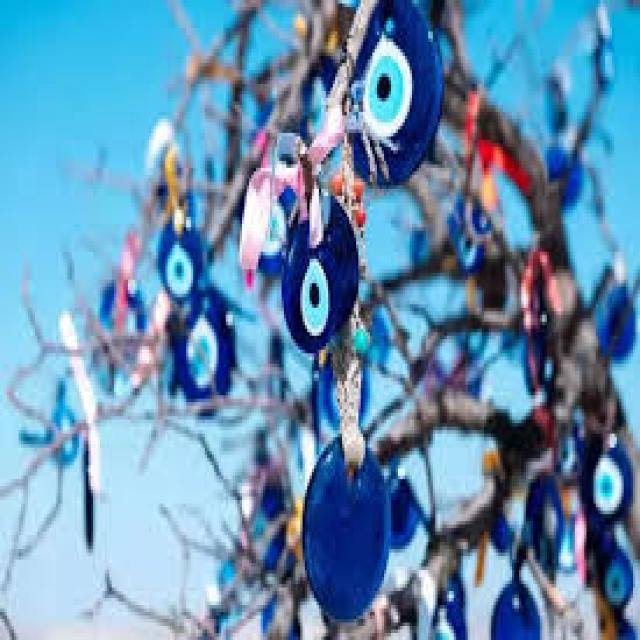Nazar-Boncugu: (347, 0, 445, 189)
